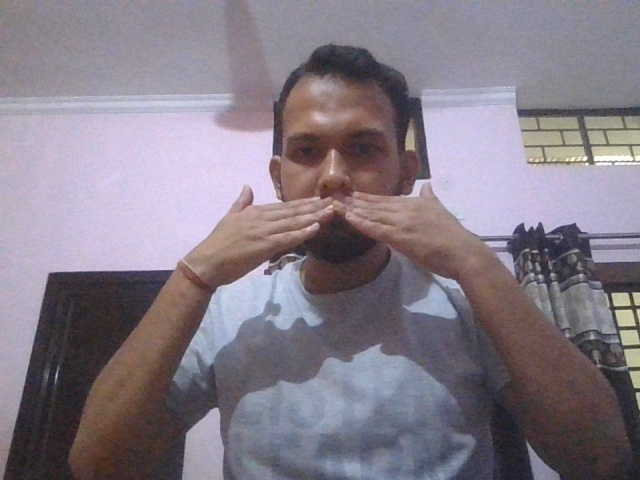thanks: (177, 183, 486, 288)
